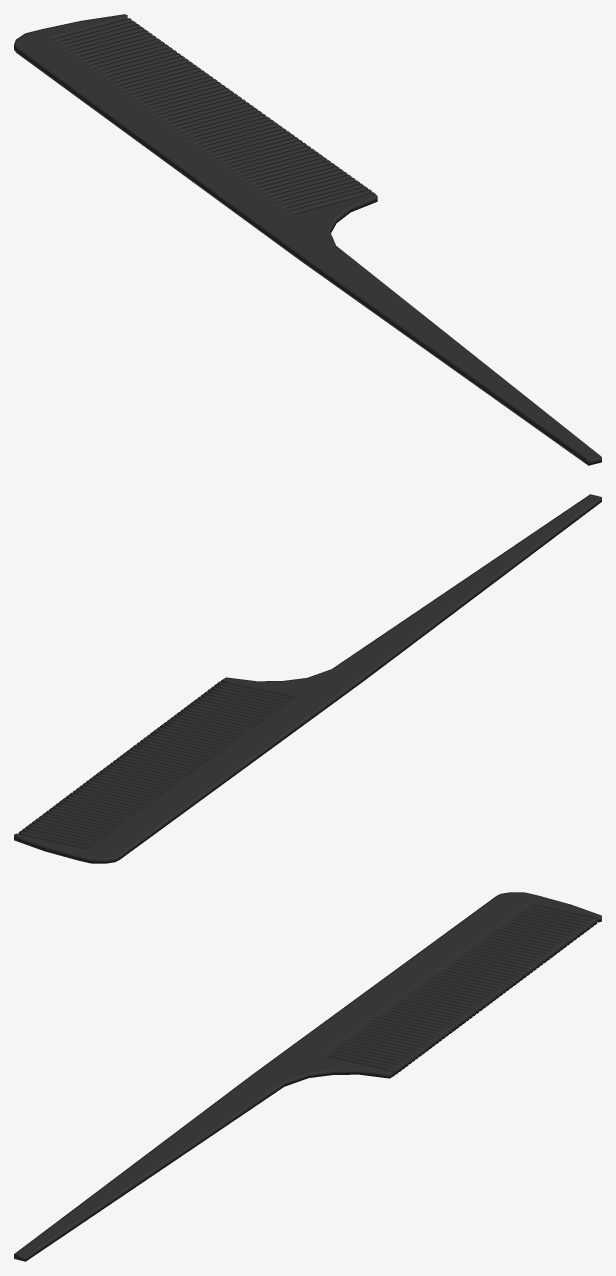
The model's file is comb.glb.
The picture shows the model from 3 angles, top to bottom: view 1: azimuth 30°, elevation 25°; view 2: azimuth 150°, elevation 25°; view 3: azimuth 330°, elevation 25°; orthographic projection. The views are drawn at different scales.
Parts seen in each view (by area): view 1: Comb 01; view 2: Comb 01; view 3: Comb 01.
Boxes of the visible parts, left/top/right/bottom form: Comb 01: left=14, top=14, right=601, bottom=465; Comb 01: left=14, top=494, right=601, bottom=863; Comb 01: left=14, top=892, right=601, bottom=1261.
Size of the model in its own units: 0.2153 by 0.00941 by 1.8.
1 material, 1 textured.
